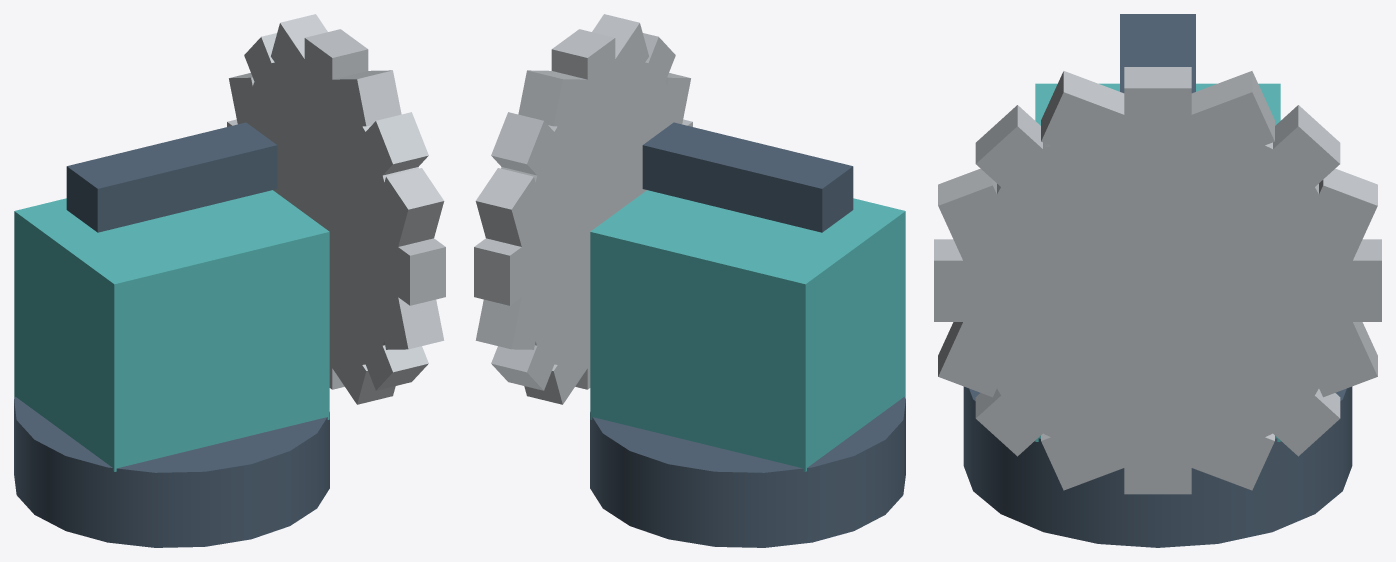
Rendered from turret.glb.
The picture shows the model from 3 angles, left to right: view 1: azimuth 30°, elevation 25°; view 2: azimuth 150°, elevation 25°; view 3: azimuth 270°, elevation 25°; orthographic projection. The views are drawn at different scales.
Bounding box in the file's own units: 1.07 × 1.27 × 1.06.
